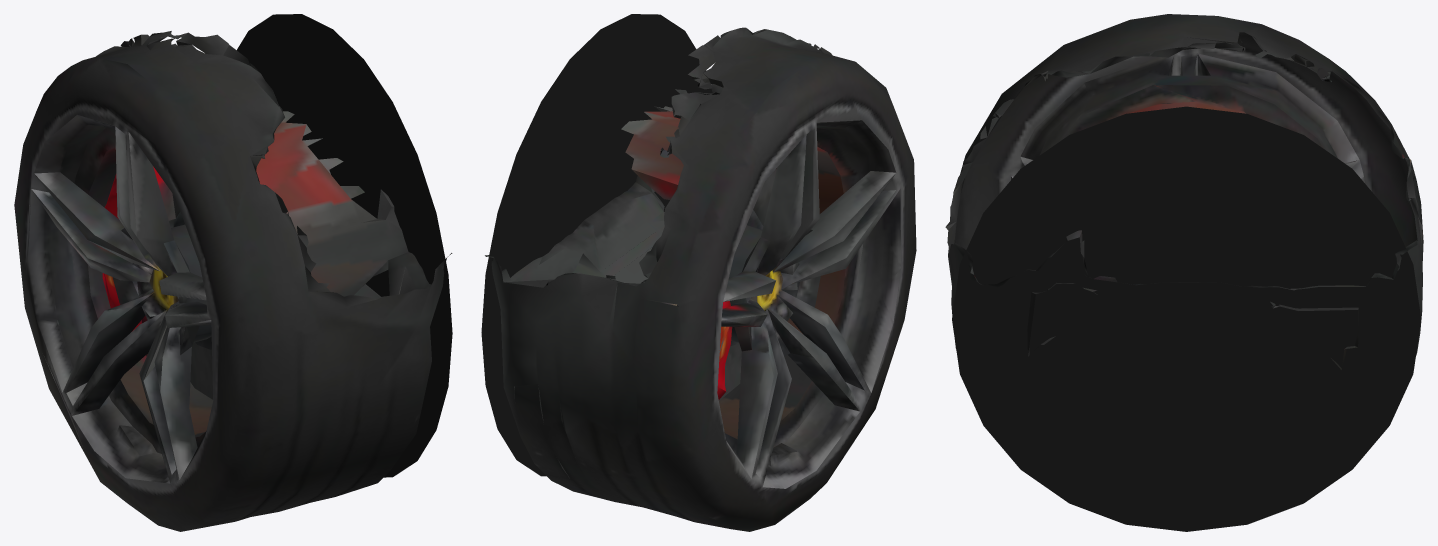
File: red_sports_wheel_RL.glb
3 renders of one model, left to right at view 1: azimuth 30°, elevation 25°; view 2: azimuth 150°, elevation 25°; view 3: azimuth 270°, elevation 25°, orthographic.
Parts seen in each view (by area): view 1: red_sports_wheel_RL; view 2: red_sports_wheel_RL; view 3: red_sports_wheel_RL.
Part boxes in pixels (<box>): red_sports_wheel_RL: <box>14,14,452,531</box>; red_sports_wheel_RL: <box>481,14,916,531</box>; red_sports_wheel_RL: <box>945,14,1423,531</box>.
Size of the model in its own units: 0.3898 by 0.7673 by 0.7523.
1 material, 1 textured.
